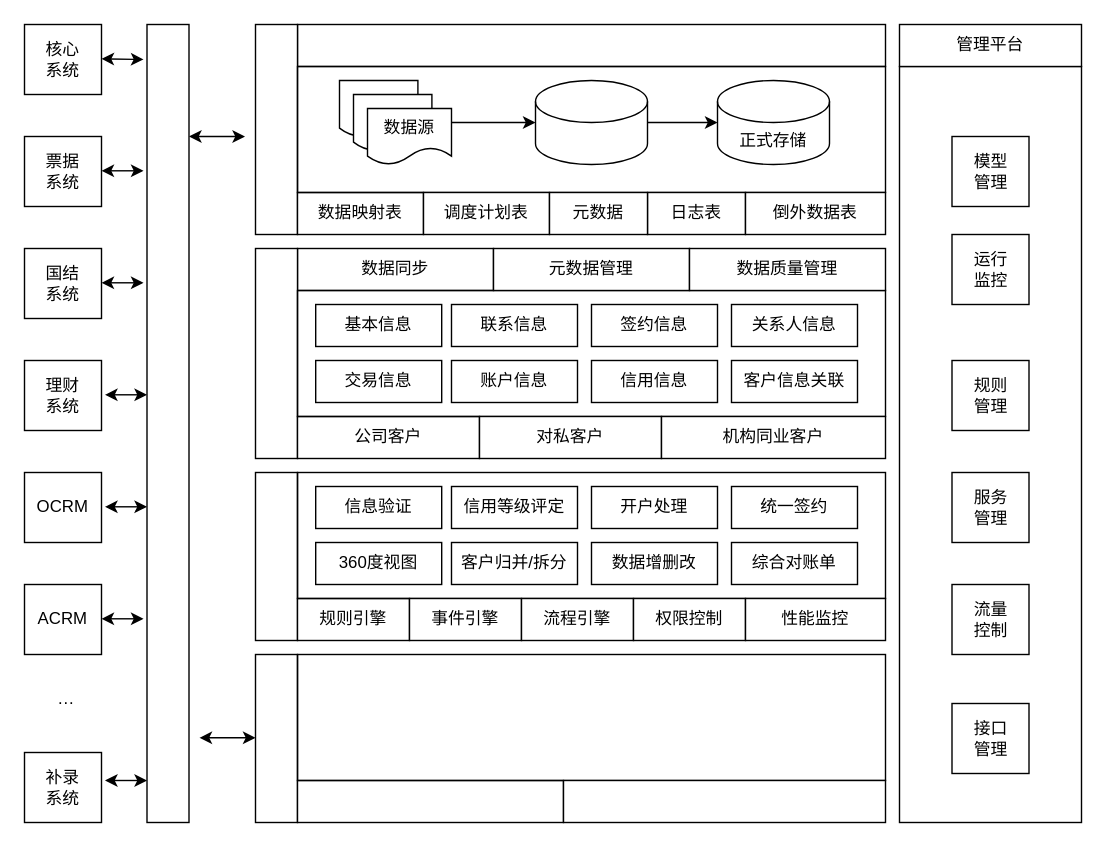
Some shapes in this 1106 by 847 pixel diagram are drawn without their labels. The shapes that lost their labels are listed below. From the top down, each one's centre as x and y in pixels, then its label:
At point 591,44: "数据加载接口/数据输出接口".
At point 276,128: "数 据 存 储 层".
At point 591,121: "临时存储".
At point 276,352: "信 息 整 合 层".
At point 276,555: "服 务 层".
At point 276,737: "服 务 访 问 层".
At point 430,800: "批量接口】".
At point 724,800: "联机接口".
